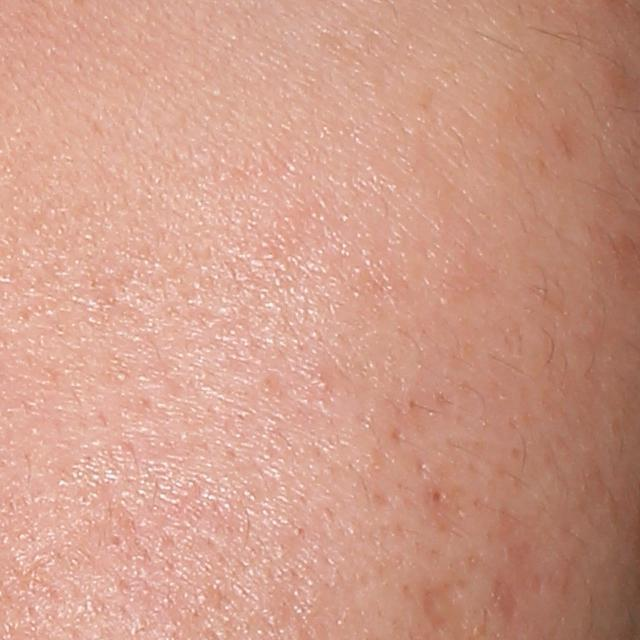atrophic_scar: (416, 578, 470, 632), (490, 577, 524, 626)
comedo: (425, 484, 448, 508)
